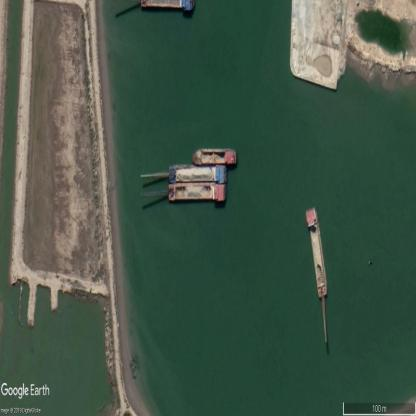ship: (305, 207, 330, 302), (168, 181, 226, 204), (168, 166, 227, 185), (192, 150, 236, 166)
